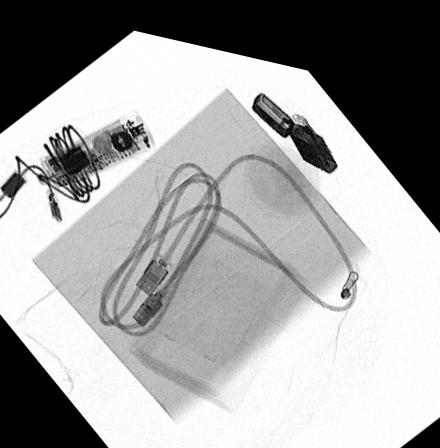Lighter: (250, 78, 338, 157)
